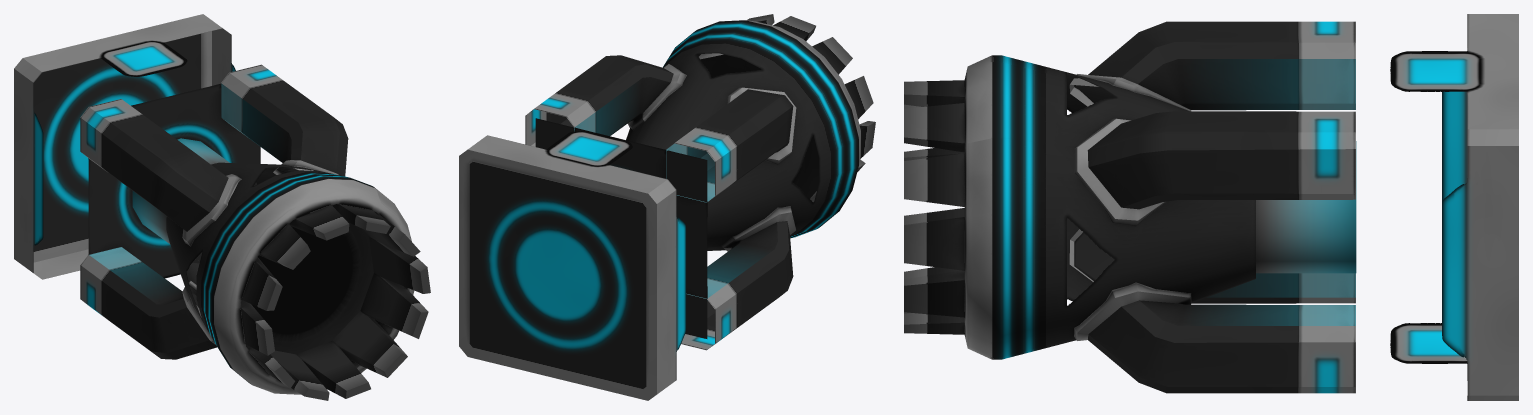
File: obj_interactive_thruster_05_off.fbx
The picture shows the model from 3 angles, left to right: view 1: azimuth 30°, elevation 25°; view 2: azimuth 150°, elevation 25°; view 3: azimuth 270°, elevation 25°; orthographic projection. The views are drawn at different scales.
Parts seen in each view (by area): view 1: obj_interactive_thruster_05_off; view 2: obj_interactive_thruster_05_off; view 3: obj_interactive_thruster_05_off.
Part boxes in pixels (box(x1,y1,x2,y2)): obj_interactive_thruster_05_off: box(14, 14, 430, 400); obj_interactive_thruster_05_off: box(459, 14, 875, 400); obj_interactive_thruster_05_off: box(904, 14, 1518, 400).
Bounding box in the file's own units: 2.03 × 2.03 × 4.12.
